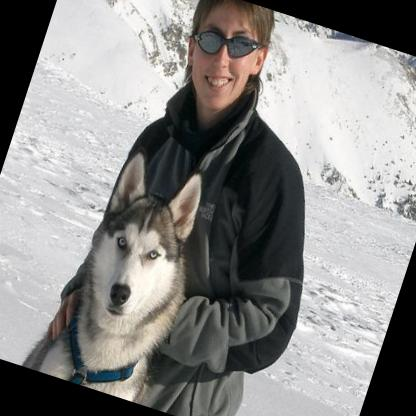Siberian_husky: (23, 132, 221, 404)
